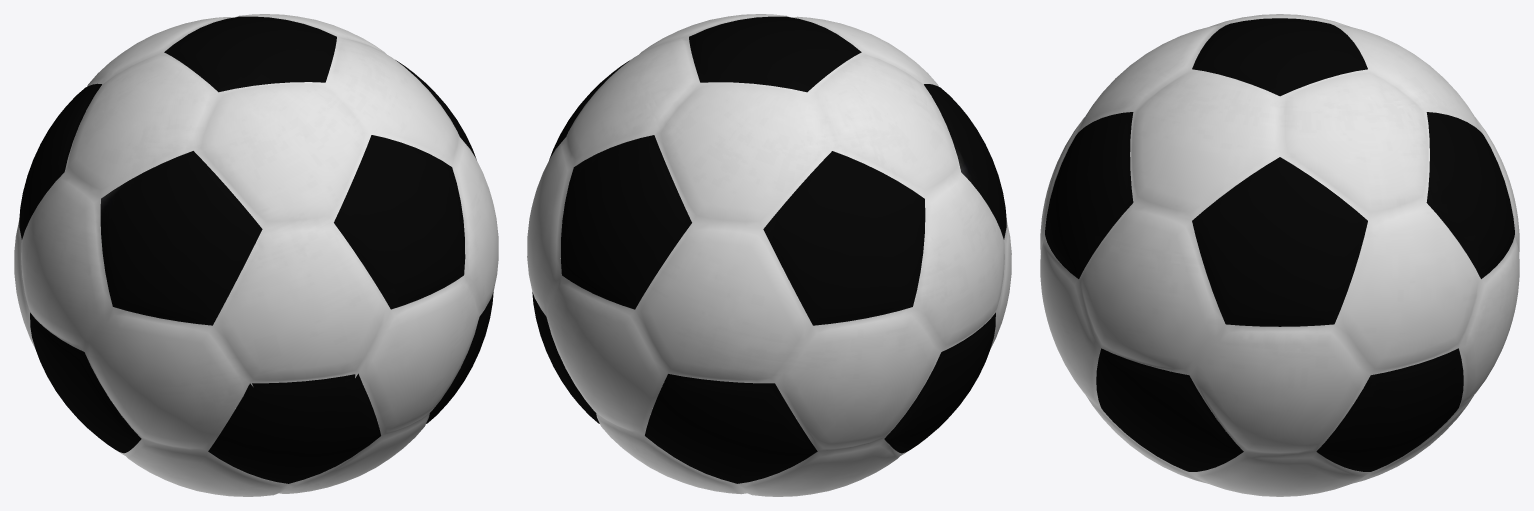
File: soccer_ball.glb
3 renders of one model, left to right at view 1: azimuth 30°, elevation 25°; view 2: azimuth 150°, elevation 25°; view 3: azimuth 270°, elevation 25°, orthographic.
Parts seen in each view (by area): view 1: Object_3, Object_2; view 2: Object_3, Object_2; view 3: Object_3, Object_2.
Boxes of the visible parts, <box> form: Object_3: <box>14,14,498,496</box>; Object_2: <box>19,16,493,483</box>; Object_3: <box>527,14,1011,496</box>; Object_2: <box>532,16,1006,483</box>; Object_3: <box>1040,14,1519,496</box>; Object_2: <box>1045,18,1514,471</box>.
Size of the model in its own units: 2.1 by 2.11 by 2.09.
2 materials, 2 textured.
